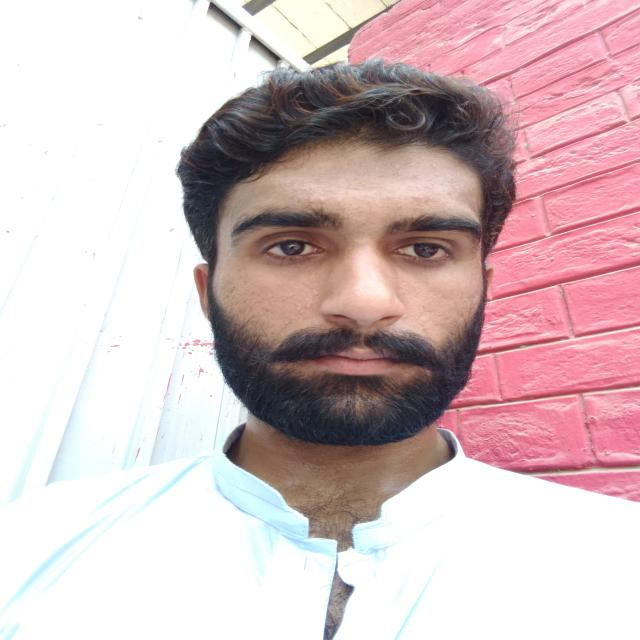Acne: (306, 197, 342, 206), (410, 194, 423, 202), (444, 190, 453, 196)
Dry-Skin: (380, 187, 451, 209), (343, 180, 369, 228), (289, 180, 337, 203), (434, 175, 468, 189), (406, 172, 437, 184)
Englarged-Pores: (284, 277, 320, 322), (399, 280, 438, 316), (416, 316, 432, 332)
Eyebags: (256, 255, 328, 269), (396, 254, 454, 269)
